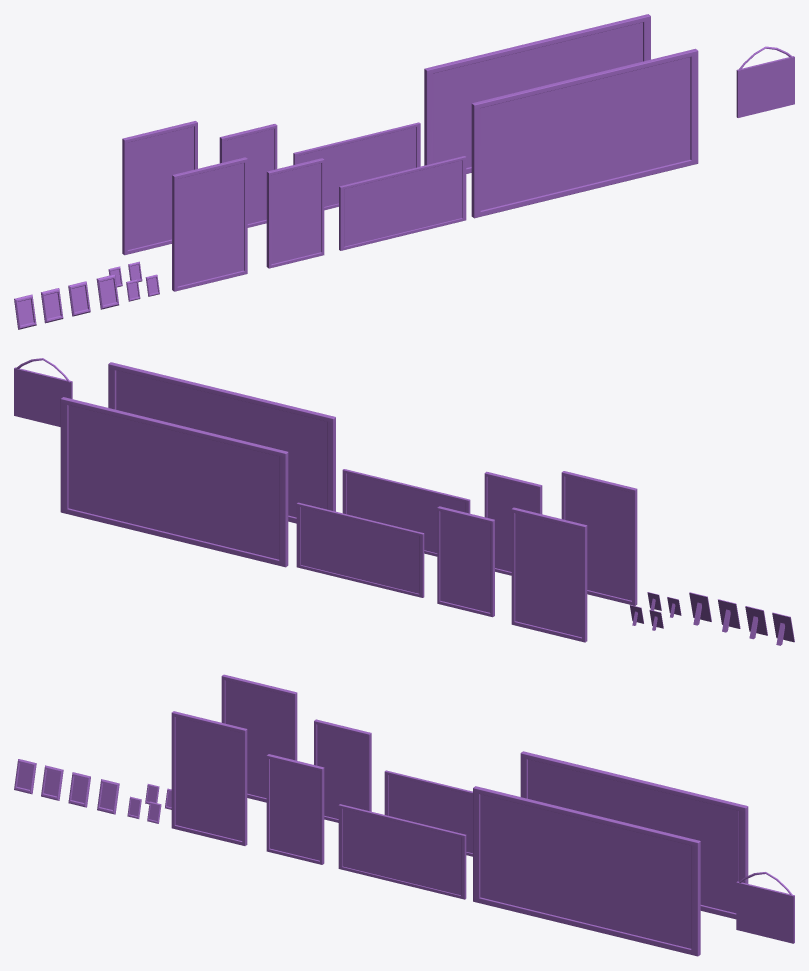
The model's file is Cuadros.fbx.
3 views of the same model, one above another, from view 1: azimuth 30°, elevation 25°; view 2: azimuth 150°, elevation 25°; view 3: azimuth 330°, elevation 25° (orthographic).
Visible parts, largest first — view 1: cuadro08, cuadro12, cuadro06, cuadro05, cuadro11, cuadro07, cuadro09, cuadro10, cuadroPuerta, tableCuadro01, tableCuadro04, tableCuadro03 (+1 smaller); view 2: cuadro12, cuadro08, cuadro11, cuadro09, cuadro06, cuadro10, cuadro05, cuadro07, cuadroPuerta, tableCuadro01, tableCuadro02, tableCuadro04 (+1 smaller); view 3: cuadro08, cuadro12, cuadro06, cuadro05, cuadro07, cuadro11, cuadro10, cuadro09, cuadroPuerta, tableCuadro02, tableCuadro03, tableCuadro04 (+1 smaller).
Boxes of the visible parts, box(x1,y1,x2,y2) form: cuadro08: box(471, 48, 698, 218); cuadro12: box(424, 14, 650, 173); cuadro06: box(172, 157, 247, 291); cuadro05: box(339, 156, 466, 250); cuadro11: box(122, 121, 197, 255); cuadro07: box(266, 158, 324, 268); cuadro09: box(293, 122, 420, 210); cuadro10: box(219, 124, 277, 227); cuadroPuerta: box(736, 46, 794, 117); tableCuadro01: box(14, 294, 36, 329); tableCuadro04: box(96, 274, 119, 309); tableCuadro03: box(68, 281, 90, 316); cuadro12: box(60, 397, 288, 567); cuadro08: box(108, 362, 335, 523); cuadro11: box(511, 507, 587, 642); cuadro09: box(296, 502, 424, 597); cuadro06: box(561, 471, 637, 605); cuadro10: box(437, 506, 494, 617); cuadro05: box(342, 469, 470, 556); cuadro07: box(484, 471, 542, 575); cuadroPuerta: box(14, 358, 72, 426); tableCuadro01: box(772, 612, 794, 645); tableCuadro02: box(745, 606, 767, 639); tableCuadro04: box(689, 592, 711, 625); cuadro08: box(473, 786, 700, 956); cuadro12: box(520, 751, 748, 919); cuadro06: box(171, 711, 247, 845); cuadro05: box(338, 804, 466, 899); cuadro07: box(266, 754, 324, 864); cuadro11: box(221, 674, 297, 802); cuadro10: box(314, 719, 371, 822); cuadro09: box(384, 770, 472, 856); cuadroPuerta: box(736, 872, 794, 943); tableCuadro02: box(41, 765, 63, 800); tableCuadro03: box(68, 772, 90, 807); tableCuadro04: box(97, 779, 119, 814).
Bounding box in the file's own units: 7.59 × 1.08 × 0.8997.
